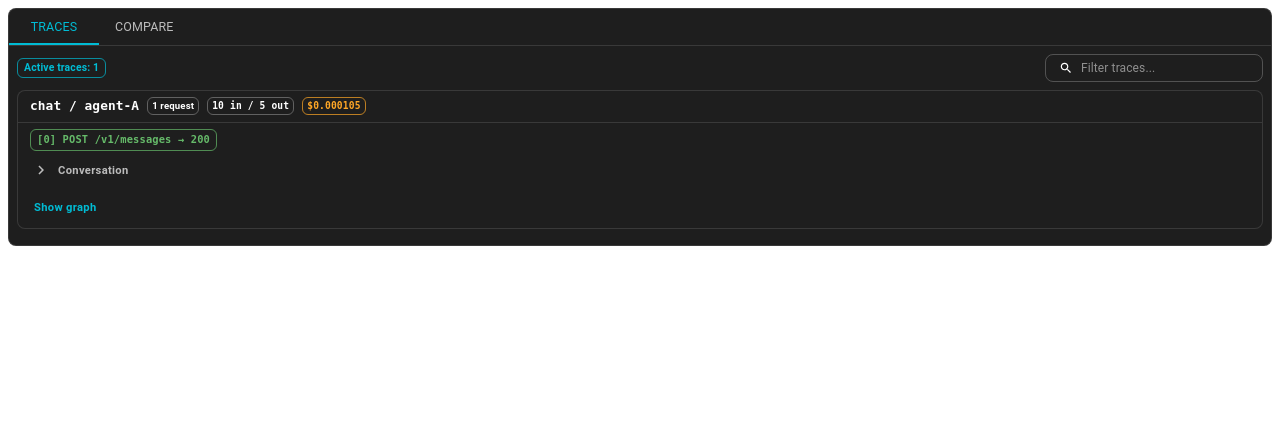
Test: SessionInspector › expanding a chip reveals request detail
Find the request chip and click it
Step 1. Click the button "[0] POST /v1/messages → 200" → (124, 140), box [30,128,217,150]
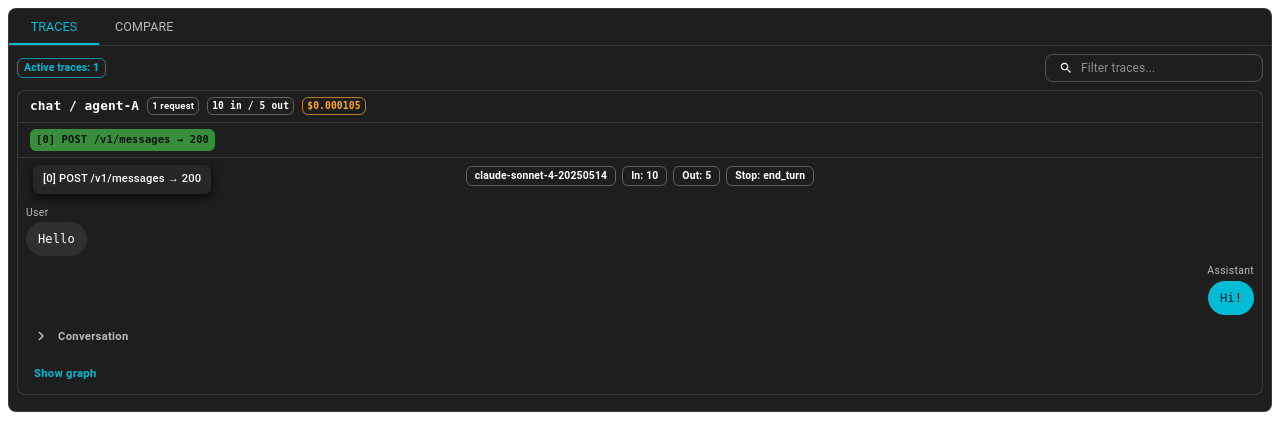
expect the text "Hello" is shown: met, box [38,230,75,248]
